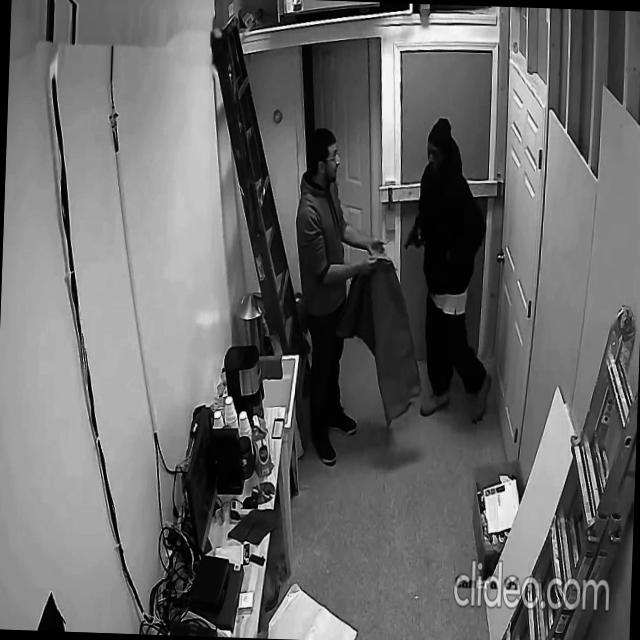gun: (404, 222, 422, 250)
person: (286, 126, 396, 468)
person with a gun: (400, 115, 501, 422)
